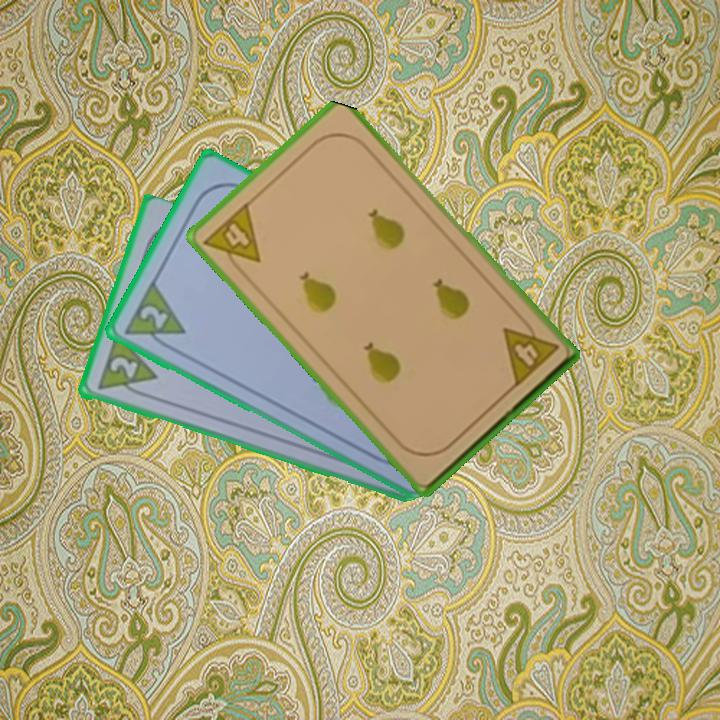2p: (119, 278, 188, 355), (105, 353, 140, 382)
4p: (199, 198, 264, 279), (498, 312, 562, 390)
